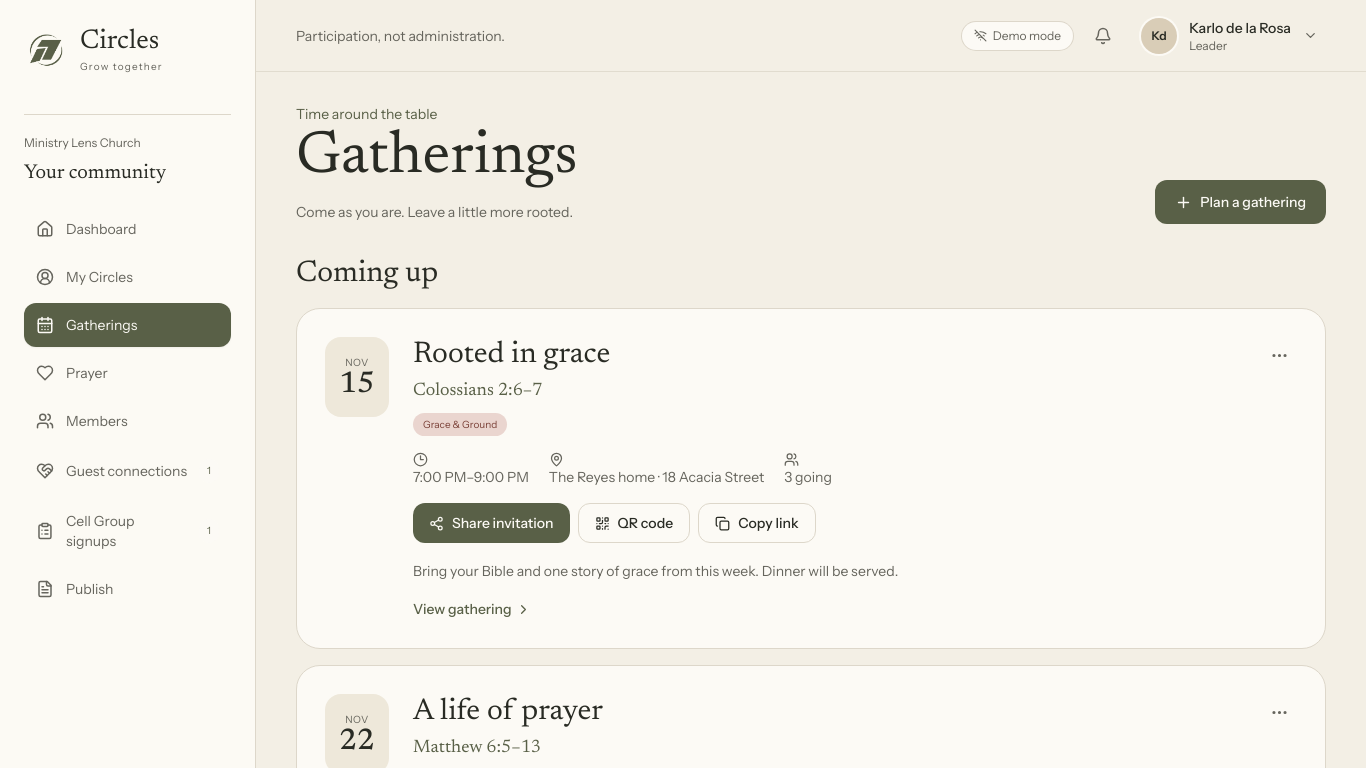
Test: Circles MVP › permanently deletes an empty gathering from the gathering list
Click the button named "Actions for A life of prayer" at (1279, 712), box [1261,694,1297,730]
(page scrolled)
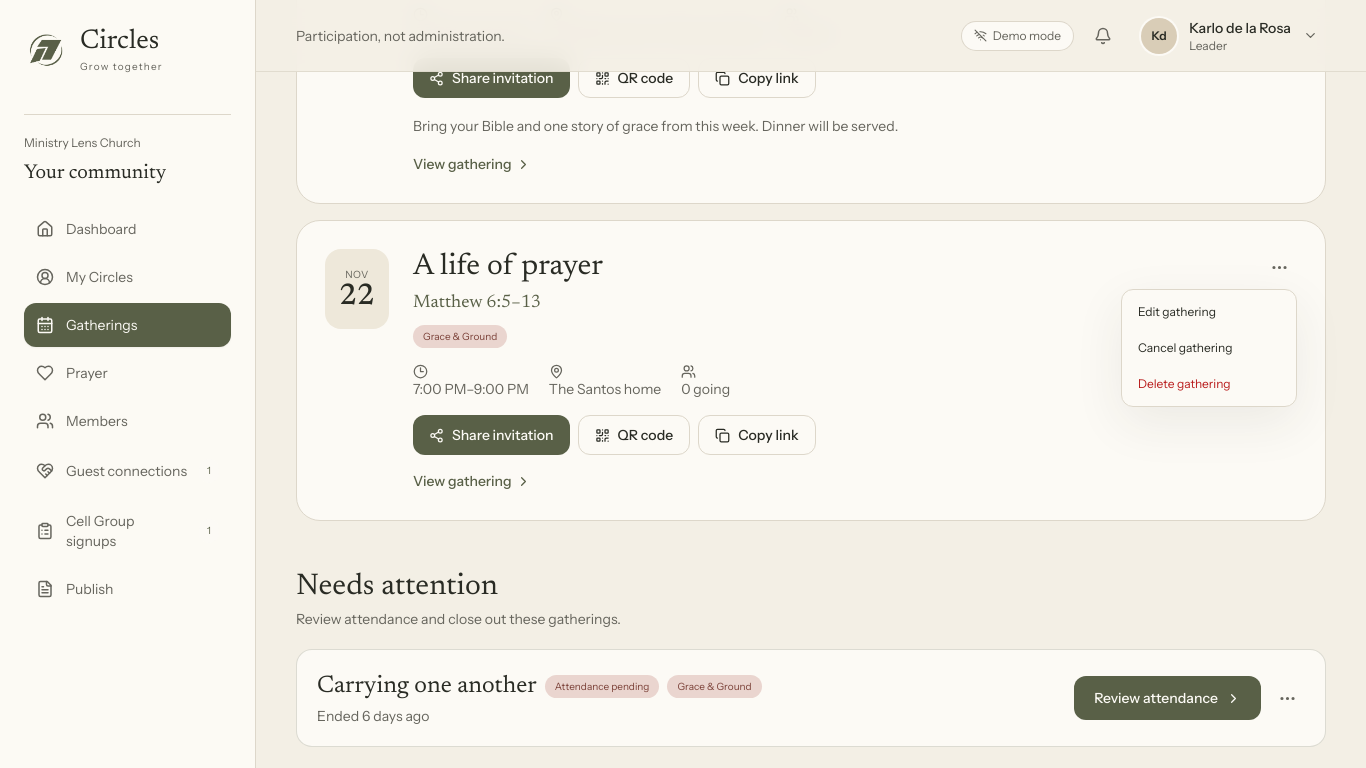
Click the button "Delete gathering" at (1209, 384), box [1122,366,1296,402]
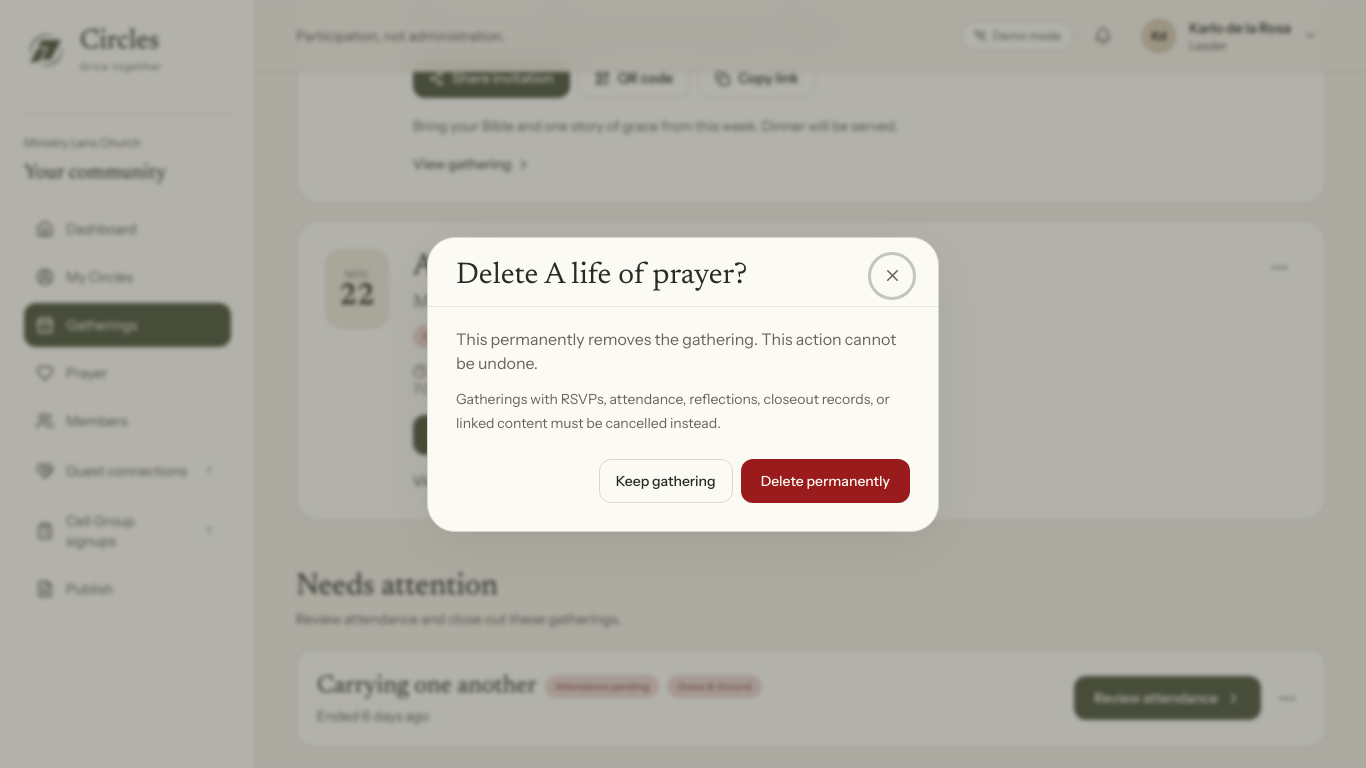
Expected: the text "cannot be undone" is shown, [456,328,896,372]
Click the button "Delete permanently" at (825, 480), box [741,458,910,502]
(page scrolled)
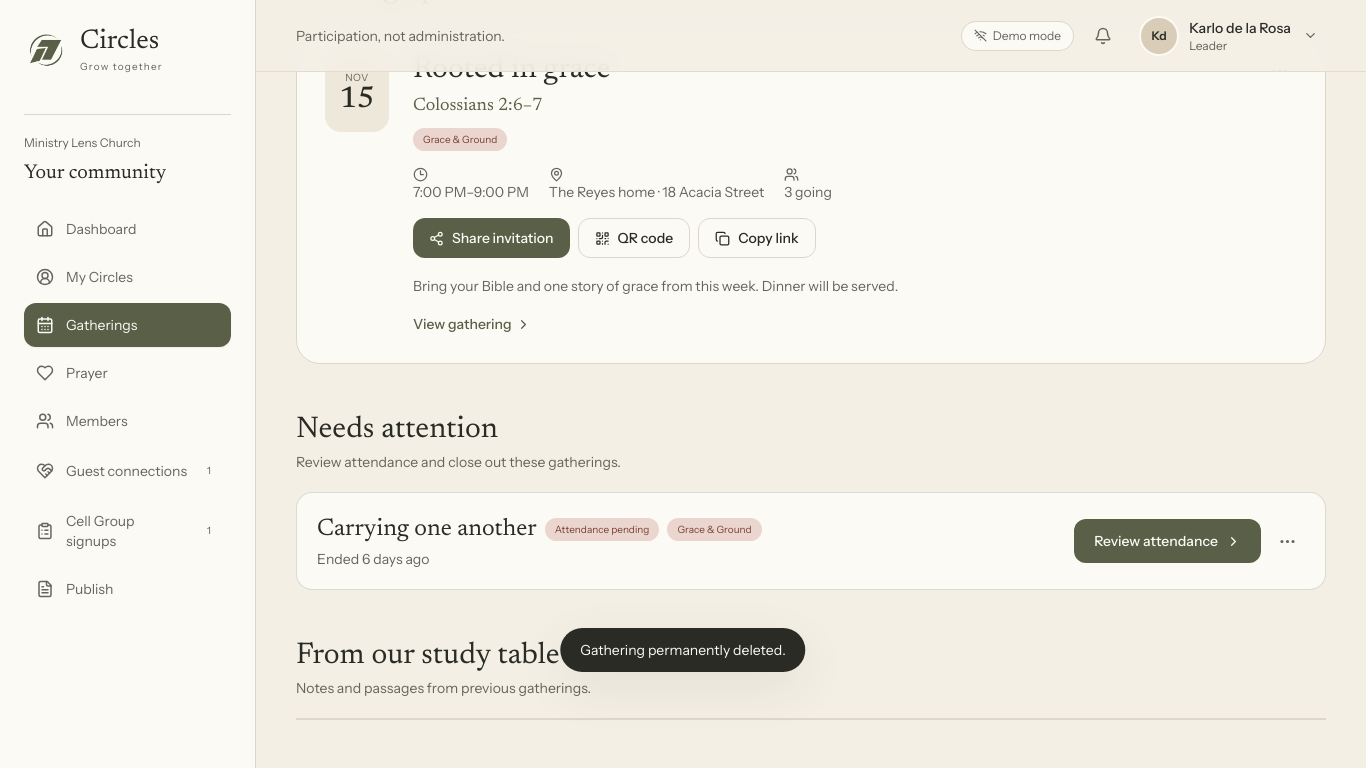
Expected: the heading "A life of prayer" is gone
